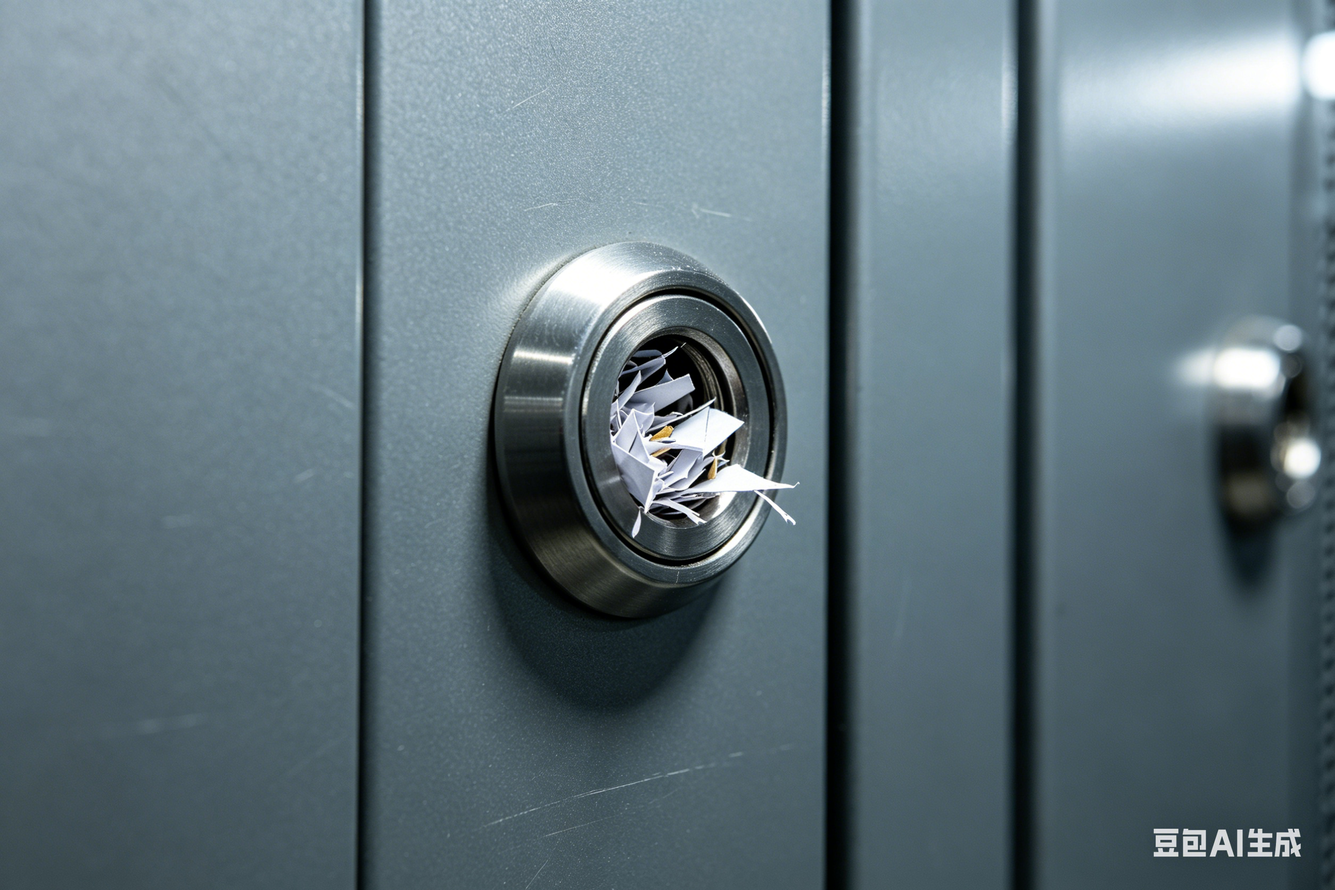BadLock: (592, 299, 778, 530)
